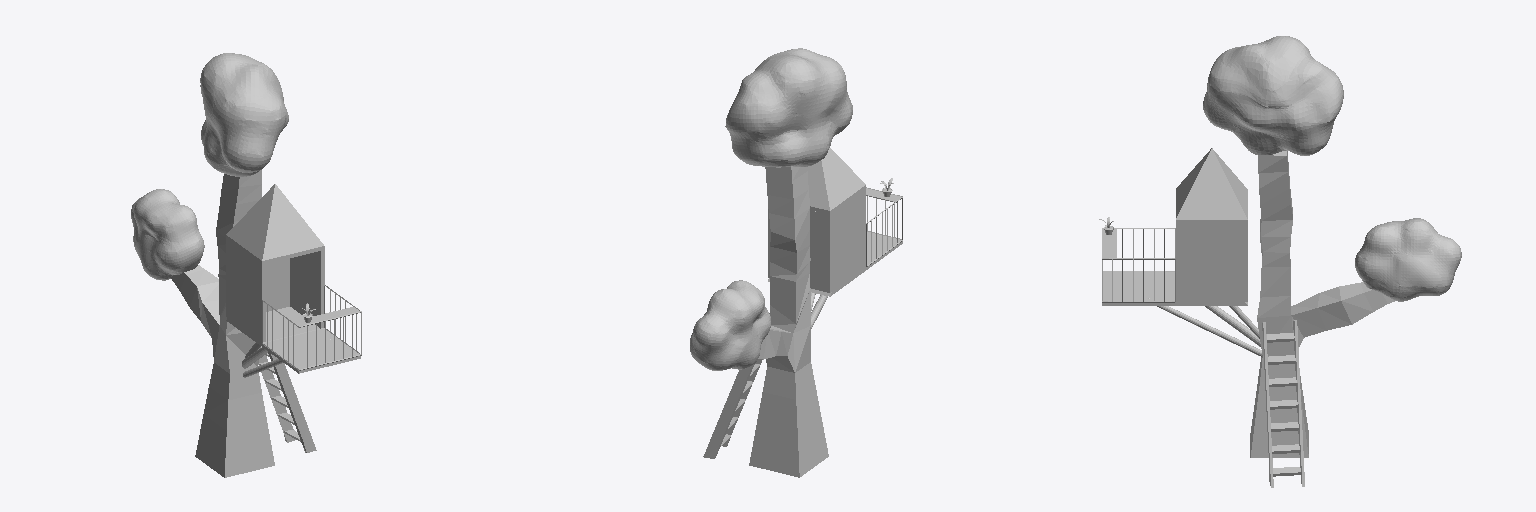
Rendered from 001-tree.obj.
3 renders of one model, left to right at view 1: azimuth 30°, elevation 25°; view 2: azimuth 150°, elevation 25°; view 3: azimuth 270°, elevation 25°, orthographic.
Parts seen in each view (by area): view 1: 平面.008_平面.013, Cube, 融球.001_融球, 融球.002_融球.001, Cube.002, 平面.012_平面.006, Cube.001; view 2: 平面.008_平面.013, 融球.001_融球, Cube, 融球.002_融球.001, Cube.002, 平面.012_平面.006, Cube.001; view 3: 融球.001_融球, 平面.008_平面.013, Cube, 融球.002_融球.001, Cube.002, 平面.012_平面.006, Cube.001, 平面.011_平面.005.
Part boxes in pixels (bbox=[...]): 平面.008_平面.013: bbox=[171, 170, 274, 477]; Cube: bbox=[226, 235, 360, 373]; 融球.001_融球: bbox=[200, 53, 288, 176]; 融球.002_融球.001: bbox=[131, 189, 204, 280]; Cube.002: bbox=[226, 184, 323, 260]; 平面.012_平面.006: bbox=[258, 346, 316, 452]; Cube.001: bbox=[262, 285, 361, 370]; 平面.008_平面.013: bbox=[749, 166, 828, 477]; 融球.001_融球: bbox=[725, 48, 852, 167]; Cube: bbox=[768, 185, 902, 296]; 融球.002_融球.001: bbox=[690, 280, 770, 370]; Cube.002: bbox=[807, 148, 865, 210]; 平面.012_平面.006: bbox=[703, 313, 769, 458]; Cube.001: bbox=[866, 187, 902, 266]; 融球.001_融球: bbox=[1203, 36, 1343, 155]; 平面.008_平面.013: bbox=[1250, 151, 1394, 457]; Cube: bbox=[1102, 220, 1247, 305]; 融球.002_融球.001: bbox=[1355, 218, 1461, 301]; Cube.002: bbox=[1176, 148, 1247, 219]; 平面.012_平面.006: bbox=[1262, 320, 1304, 487]; Cube.001: bbox=[1102, 228, 1175, 302]; 平面.011_平面.005: bbox=[1148, 298, 1261, 356].
Bounding box in the file's own units: 4.09 × 14.21 × 11.42.